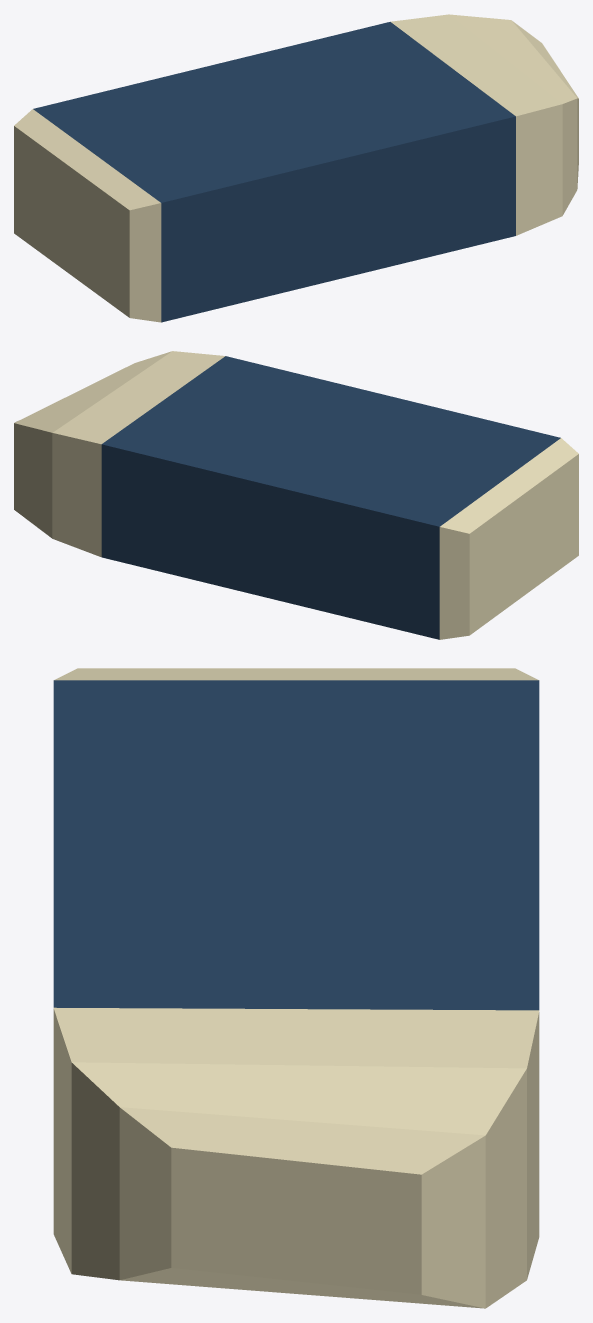
The model's file is eraser.fbx.
3 views of the same model, one above another, from view 1: azimuth 30°, elevation 25°; view 2: azimuth 150°, elevation 25°; view 3: azimuth 270°, elevation 25° (orthographic). The views are drawn at different scales.
Parts seen in each view (by area): view 1: eraser; view 2: eraser; view 3: eraser.
Part boxes in pixels (left/top/right/bottom): eraser: left=14, top=14, right=578, bottom=322; eraser: left=14, top=351, right=578, bottom=639; eraser: left=53, top=668, right=539, bottom=1308.
Bounding box in the file's own units: 14.2 × 3.22 × 6.28.
